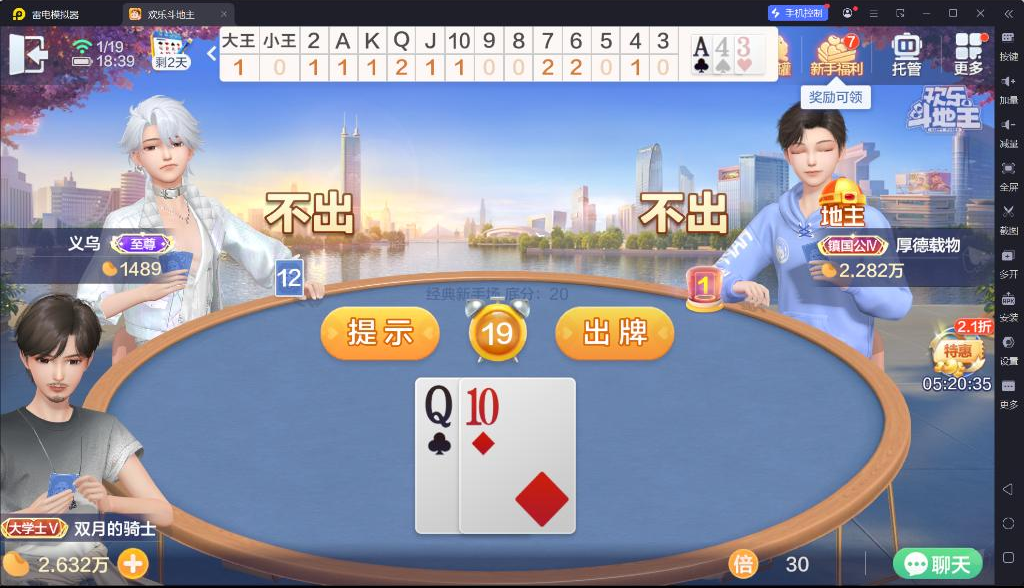A: (692, 33, 709, 59)
Q: (422, 383, 454, 429)
four: (713, 34, 734, 57)
ten: (465, 381, 501, 427)
three: (737, 36, 754, 58)
